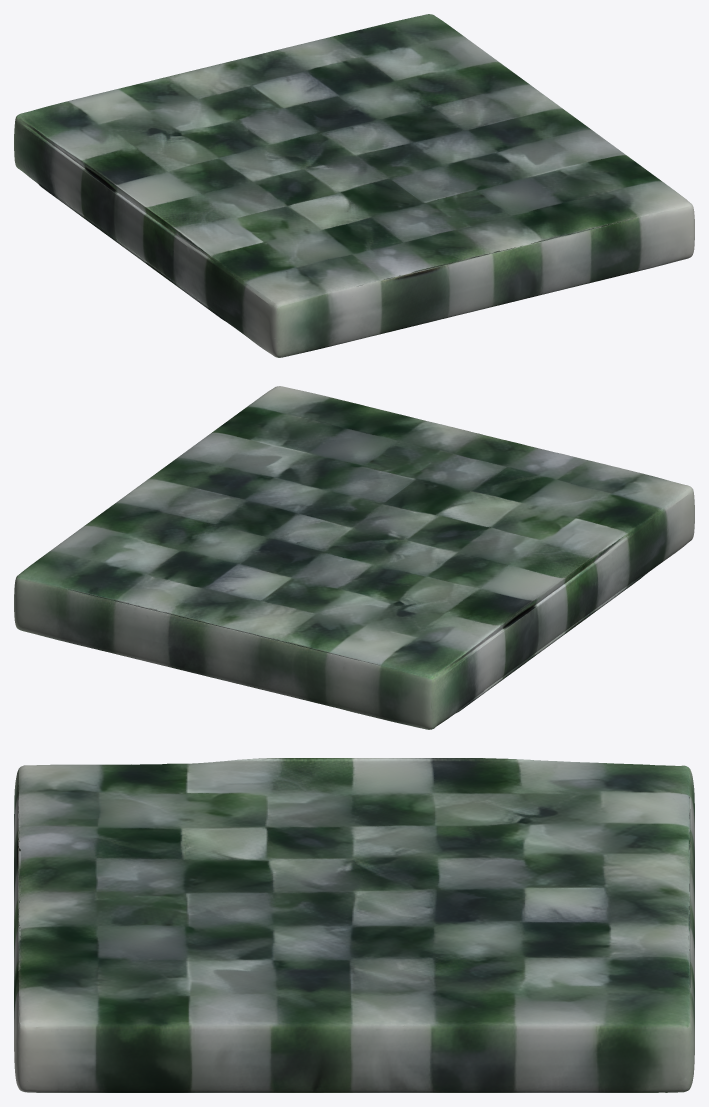
Rendered from jade-board.glb.
The picture shows the model from 3 angles, top to bottom: view 1: azimuth 30°, elevation 25°; view 2: azimuth 150°, elevation 25°; view 3: azimuth 270°, elevation 25°; orthographic projection. The views are drawn at different scales.
Parts seen in each view (by area): view 1: model; view 2: model; view 3: model.
Boxes of the visible parts, x1,y1,x2,y2 form: model: (14,14,694,357); model: (14,386,694,729); model: (14,758,694,1092).
Size of the model in its own units: 1.75 by 0.237 by 1.9.
1 material, 1 textured.
